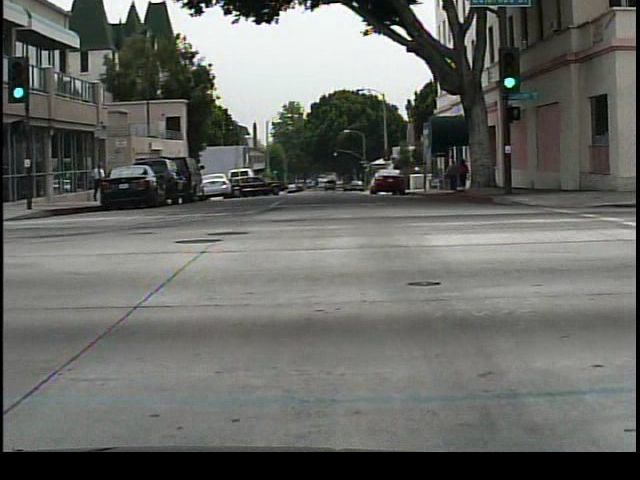person: (92, 156, 108, 203), (442, 161, 460, 195), (465, 155, 466, 195)
